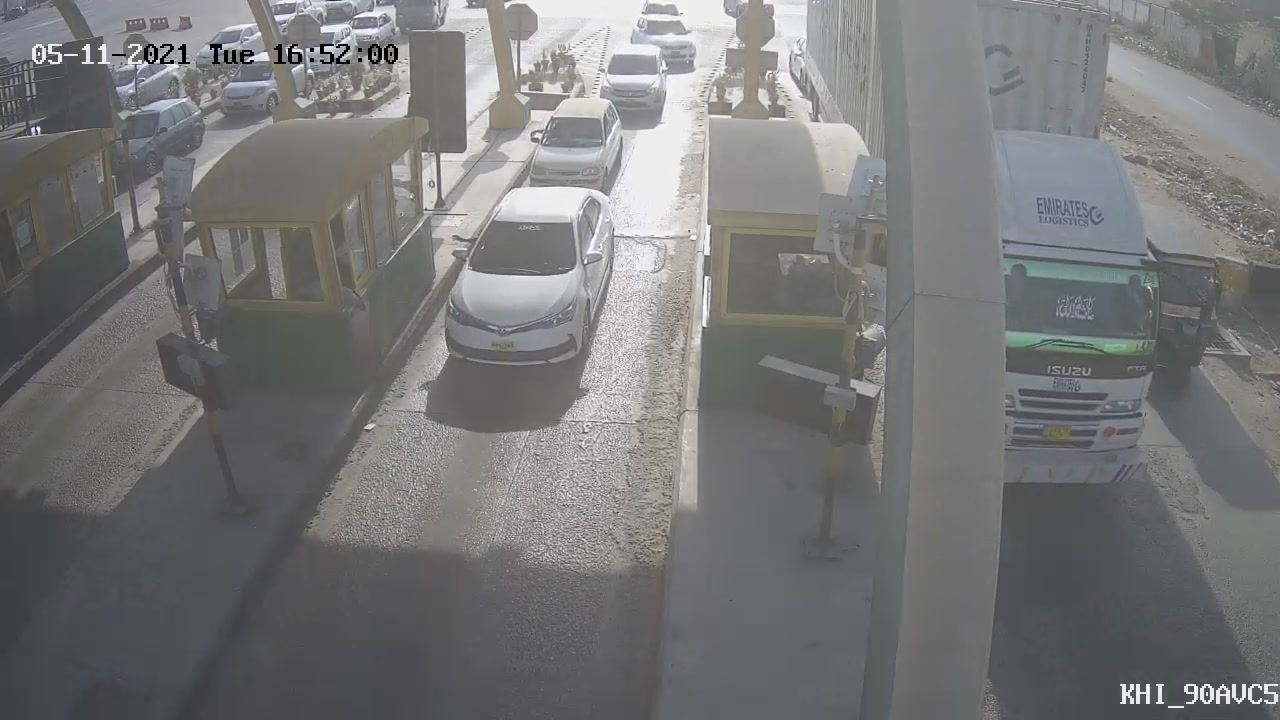F1: (424, 165, 635, 382), (512, 81, 634, 212)
